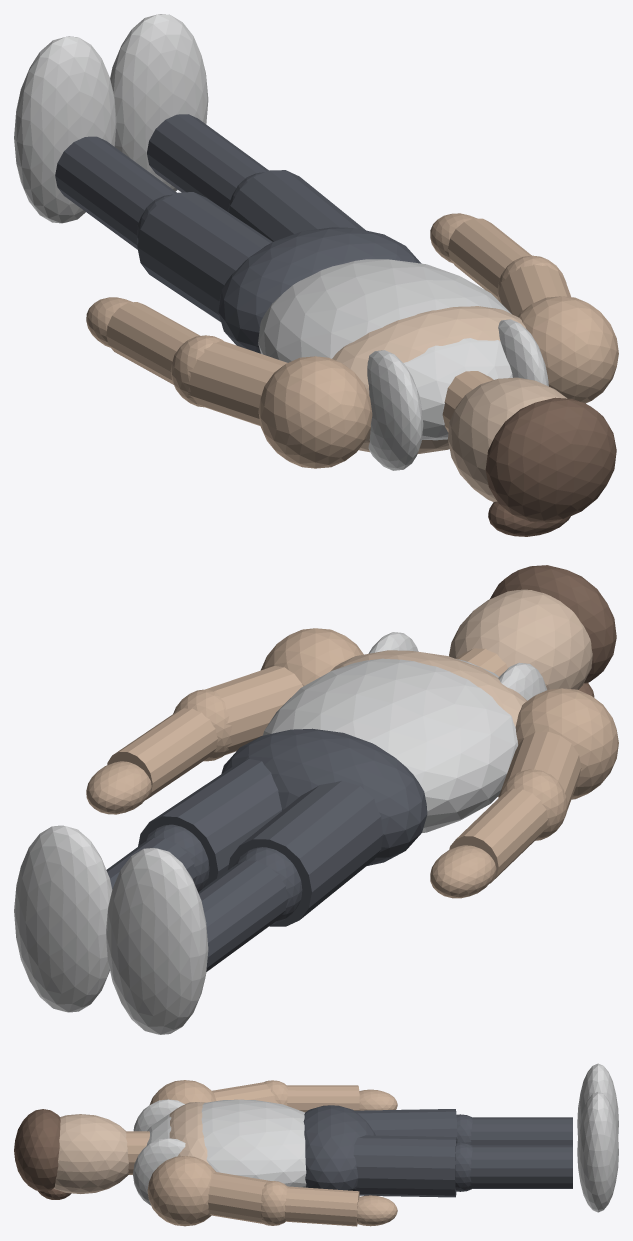
The model's file is player-base.glb.
The picture shows the model from 3 angles, top to bottom: view 1: azimuth 30°, elevation 25°; view 2: azimuth 150°, elevation 25°; view 3: azimuth 270°, elevation 25°; orthographic projection. The views are drawn at different scales.
Parts seen in each view (by area): view 1: torso_tank_top, hair_cap, shoe_left, left_shoulder, shoe_right, left_upper_leg, hips_joggers, right_shoulder, left_lower_leg, right_lower_leg, chest, head (+12 smaller); view 2: torso_tank_top, shoe_left, shoe_right, hips_joggers, left_upper_leg, head, right_upper_leg, left_lower_leg, left_shoulder, right_forearm, hair_cap, left_forearm (+14 smaller); view 3: torso_tank_top, right_upper_leg, head, hips_joggers, right_lower_leg, shoe_right, right_shoulder, hair_cap, left_lower_leg, right_forearm, left_upper_leg, right_upper_arm (+14 smaller).
Part boxes in pixels (x1=…): torso_tank_top: x1=258, y1=259, x2=512, y2=440; hair_cap: x1=485, y1=397, x2=616, y2=522; shoe_left: x1=14, y1=36, x2=116, y2=223; left_shoulder: x1=258, y1=356, x2=372, y2=468; shoe_right: x1=110, y1=14, x2=208, y2=191; left_upper_leg: x1=137, y1=192, x2=272, y2=321; hips_joggers: x1=218, y1=227, x2=421, y2=353; right_shoulder: x1=517, y1=296, x2=618, y2=403; left_lower_leg: x1=55, y1=136, x2=176, y2=249; right_lower_leg: x1=147, y1=114, x2=268, y2=212; chest: x1=332, y1=306, x2=525, y2=454; head: x1=448, y1=377, x2=567, y2=501; torso_tank_top: x1=263, y1=658, x2=517, y2=832; shoe_left: x1=106, y1=848, x2=208, y2=1034; shoe_right: x1=14, y1=825, x2=112, y2=1012; hips_joggers: x1=221, y1=728, x2=427, y2=865; left_upper_leg: x1=227, y1=780, x2=382, y2=926; head: x1=449, y1=589, x2=592, y2=689; right_upper_leg: x1=138, y1=759, x2=281, y2=888; left_lower_leg: x1=198, y1=860, x2=288, y2=971; left_shoulder: x1=515, y1=688, x2=618, y2=799; right_forearm: x1=107, y1=708, x2=217, y2=799; hair_cap: x1=490, y1=565, x2=616, y2=683; left_forearm: x1=449, y1=788, x2=547, y2=883; torso_tank_top: x1=146, y1=1099, x2=306, y2=1187; right_upper_leg: x1=353, y1=1135, x2=457, y2=1197; head: x1=53, y1=1114, x2=128, y2=1193; hips_joggers: x1=303, y1=1105, x2=375, y2=1190; right_lower_leg: x1=470, y1=1145, x2=572, y2=1188; shoe_right: x1=577, y1=1091, x2=618, y2=1212; right_shoulder: x1=147, y1=1156, x2=215, y2=1226; hair_cap: x1=14, y1=1109, x2=60, y2=1191; left_lower_leg: x1=470, y1=1117, x2=572, y2=1145; right_forearm: x1=284, y1=1186, x2=359, y2=1226; left_upper_leg: x1=354, y1=1109, x2=457, y2=1138; right_upper_arm: x1=208, y1=1172, x2=269, y2=1223.
Bounding box in the file's own units: 1.38 × 0.63 × 2.9.
